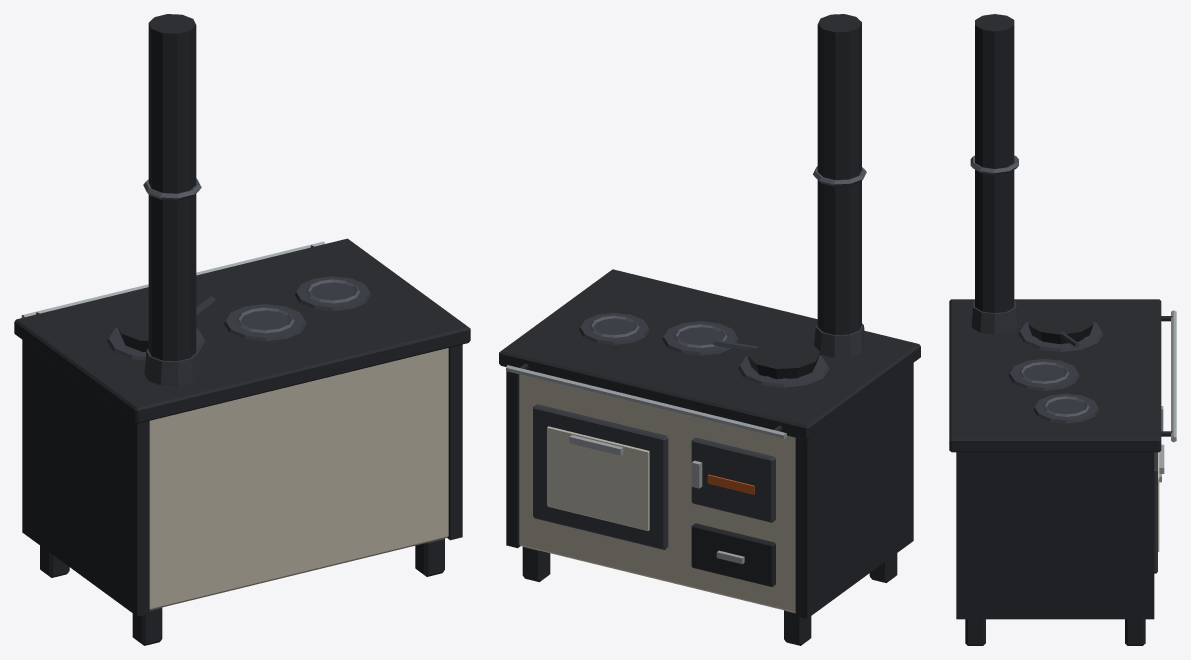
Rendered from prop_range.glb.
3 views of the same model, side by side, from view 1: azimuth 30°, elevation 25°; view 2: azimuth 150°, elevation 25°; view 3: azimuth 270°, elevation 25° (orthographic). The views are drawn at different scales.
Parts seen in each view (by area): view 1: prop_range; view 2: prop_range; view 3: prop_range.
Part boxes in pixels (x1,y1,x2,y2): prop_range: (14, 14, 470, 645); prop_range: (499, 14, 920, 645); prop_range: (949, 14, 1176, 645).
Size of the model in its own units: 1.21 by 2.07 by 0.8254.
